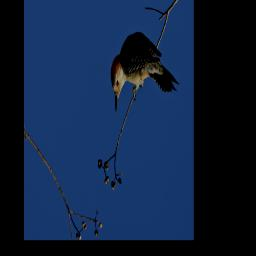Woodpecker: (105, 30, 181, 116)
